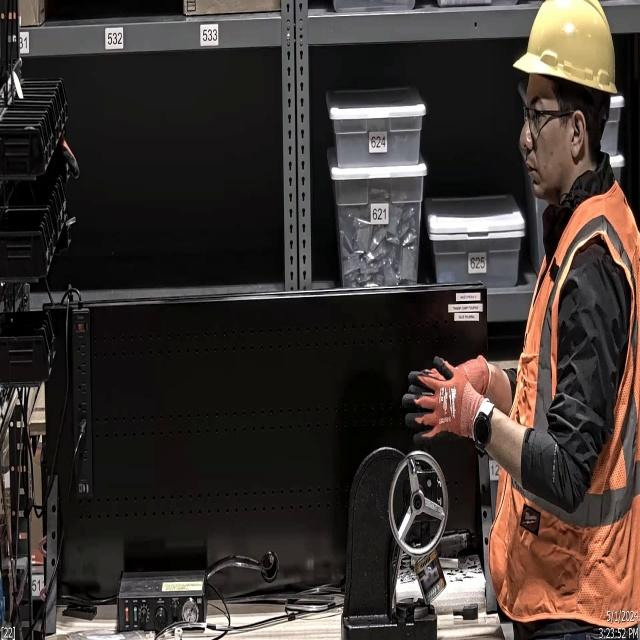construction-gloves: (398, 354, 500, 449)
